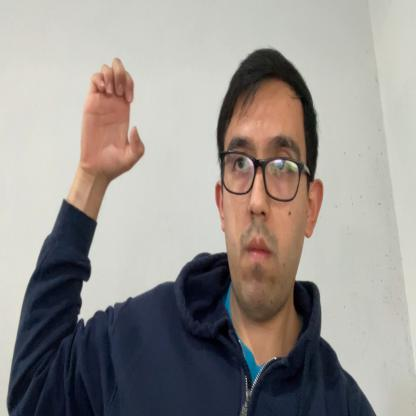E: (80, 57, 146, 178)
